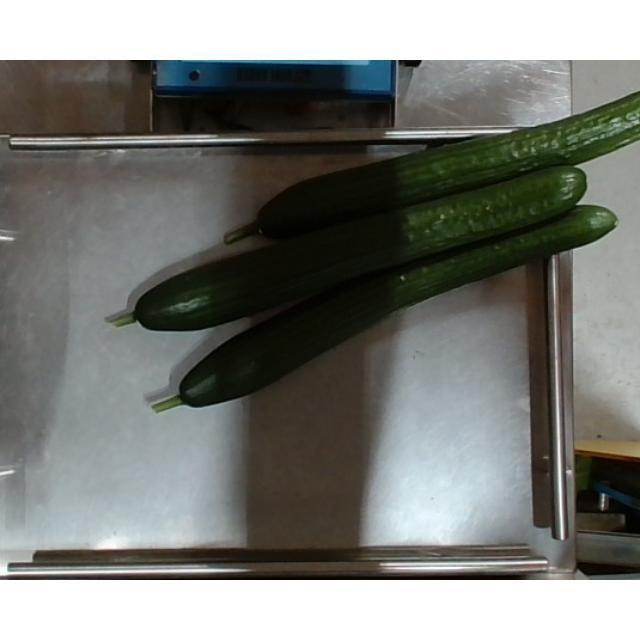cucumber: (150, 206, 618, 414), (112, 166, 588, 332), (224, 91, 640, 245)
